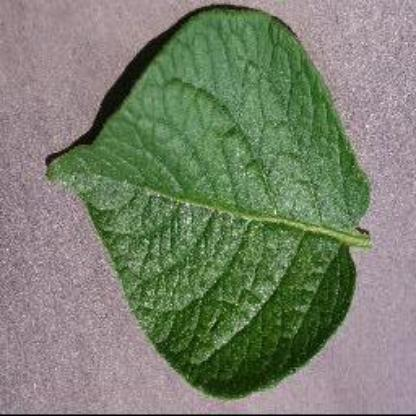Healthy-plant: (32, 6, 382, 400)
